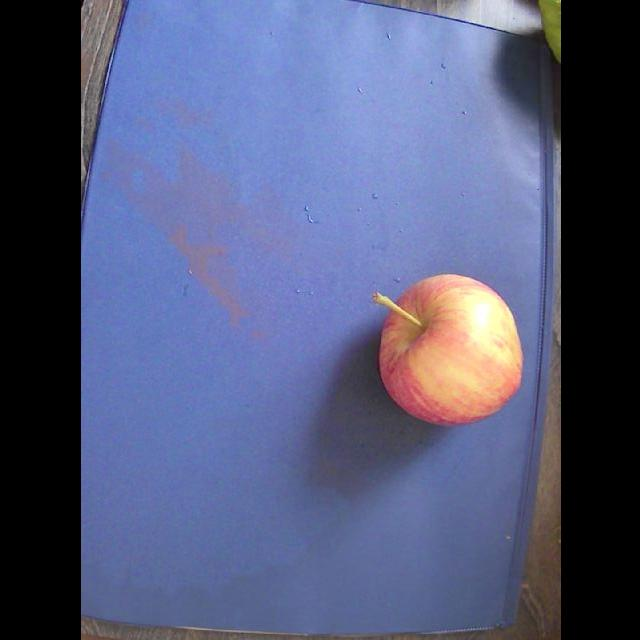manzana: (373, 275, 522, 426)
